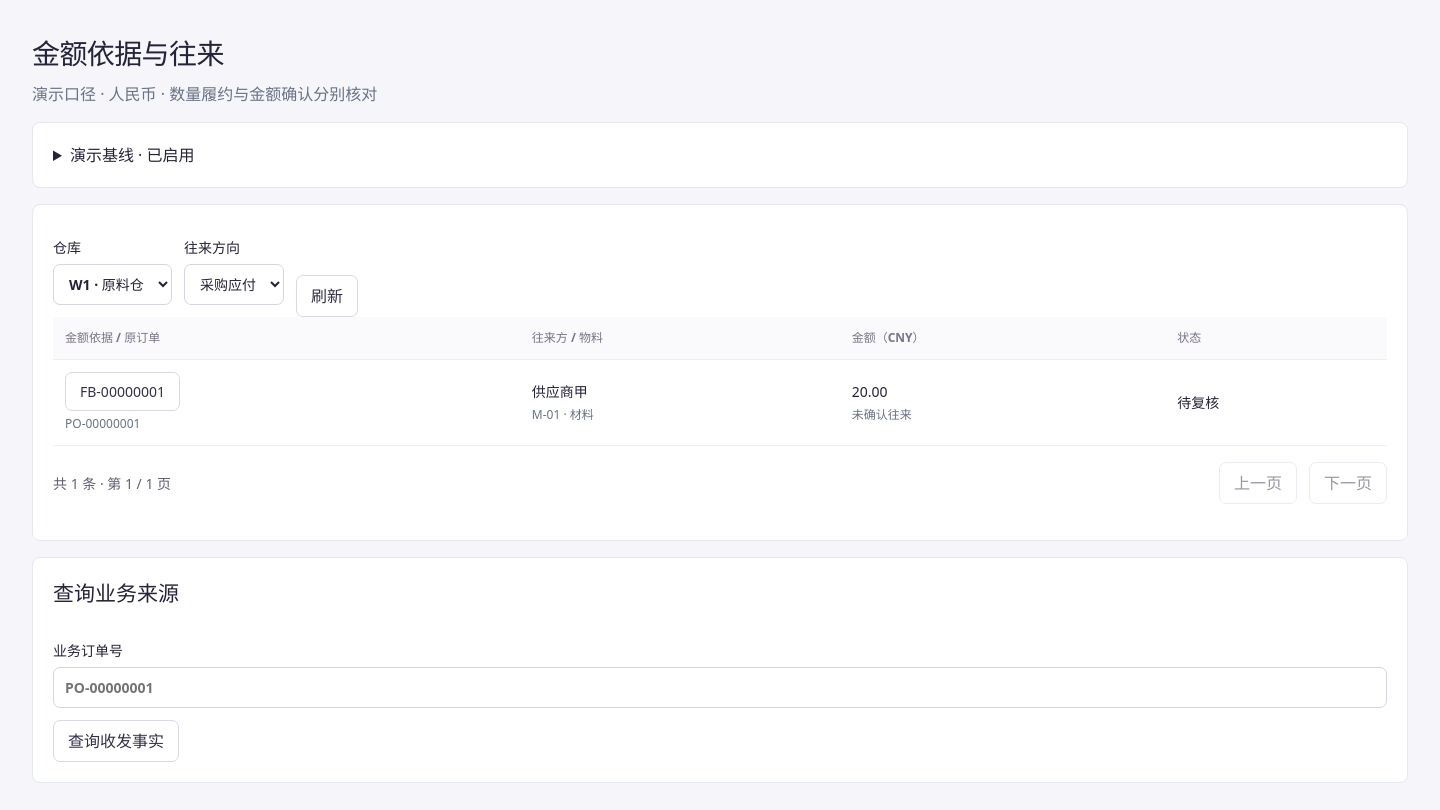
Test: shows unconfirmed amounts distinctly and preserves source identities
Step 1. Click the button "FB-00000001" → (122, 392), box [65,372,180,411]
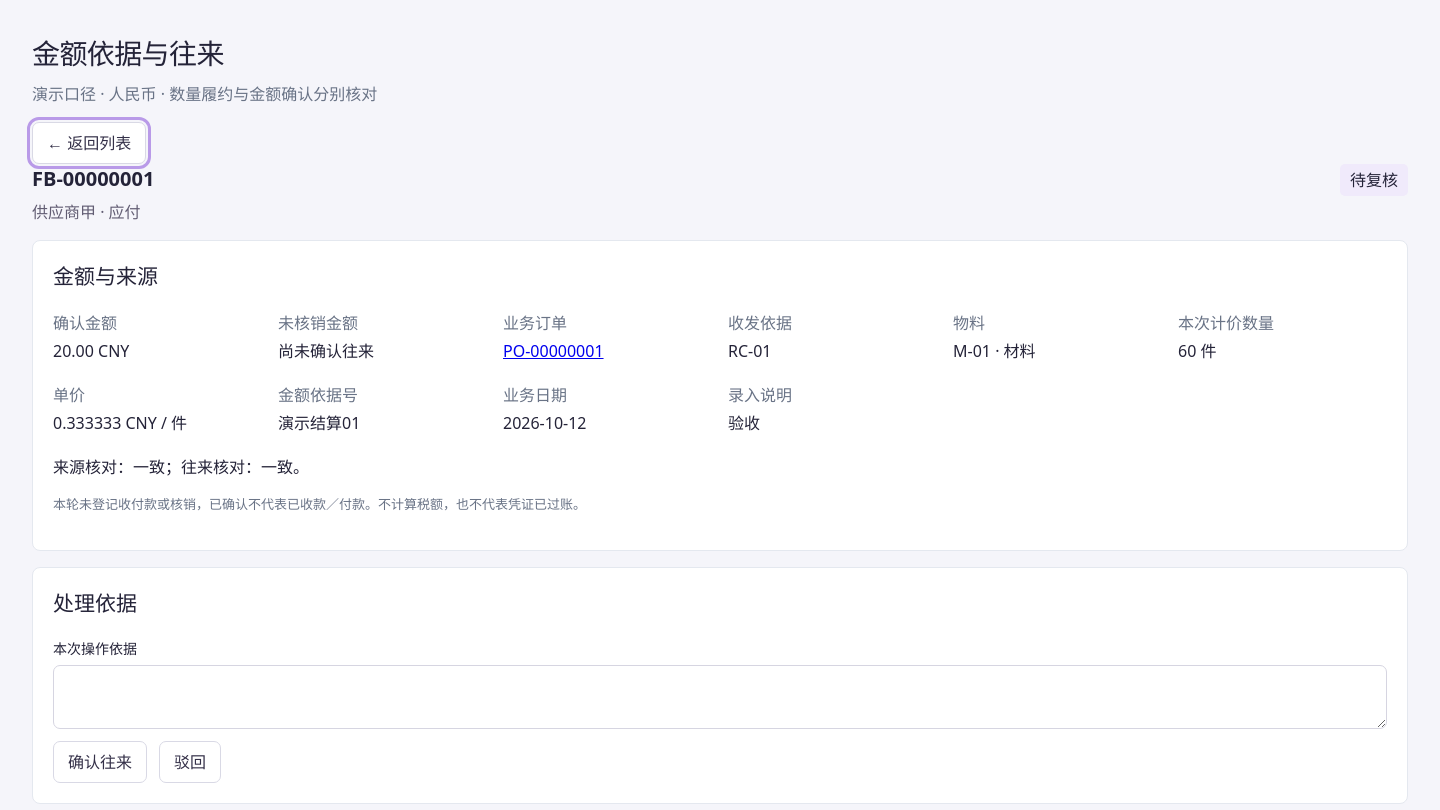
expect the text "尚未确认往来" is shown: met, box [278,340,374,362]
expect the text "来源核对：一致" is shown: met, box [53,456,309,478]
expect the text "20.00 CNY" is shown: met, box [53,340,129,362]
